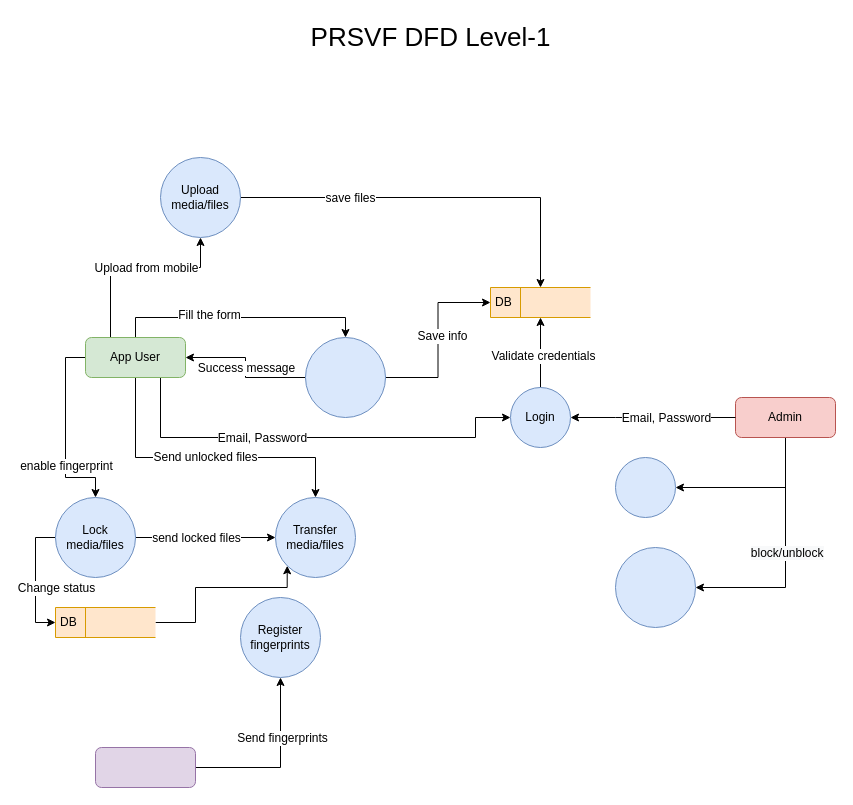
Image size: 853x805. Some labels were removed from this diagram. Each missing label, with the centre of its shape:
Finger sensor: the point at 145,767
manage reports: the point at 645,487
manage user: the point at 655,587
Register User: the point at 345,377
